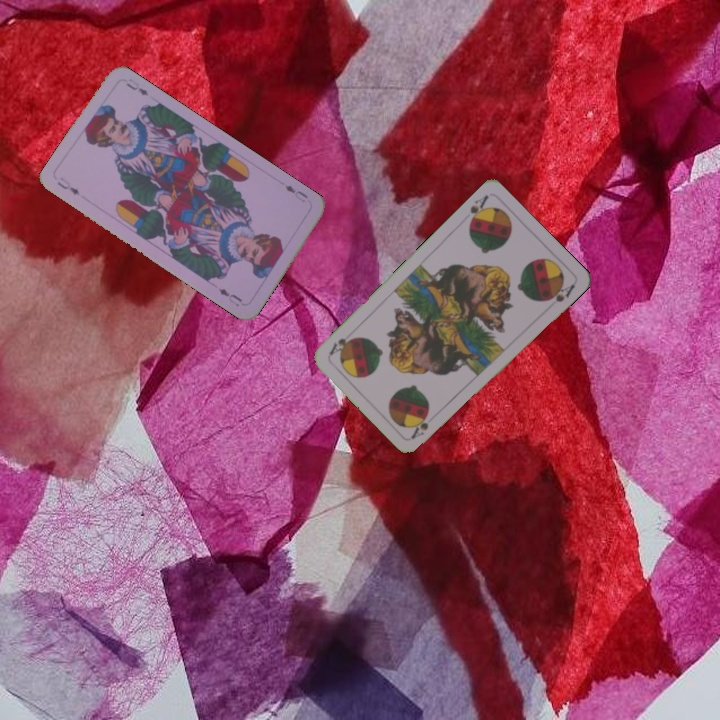EU: (53, 173, 83, 198), (281, 181, 310, 205)
SA: (465, 191, 491, 229), (407, 418, 431, 441)
